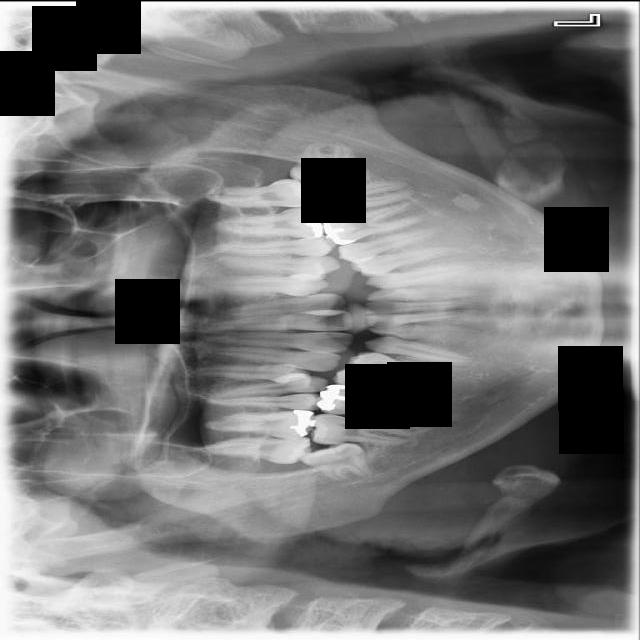52: (314, 377, 361, 420), (321, 206, 367, 249), (277, 204, 324, 240), (268, 408, 316, 438)
73: (563, 52, 567, 66)
BioHorizons Implant: (209, 176, 313, 207)
Biomet 3i Implant: (290, 138, 363, 185)
Blue Sky Bio Implant: (306, 171, 415, 218)
Caries: (204, 436, 314, 466)
Implant: (311, 412, 413, 450)
Keystone Dental Implant: (301, 441, 373, 481)
